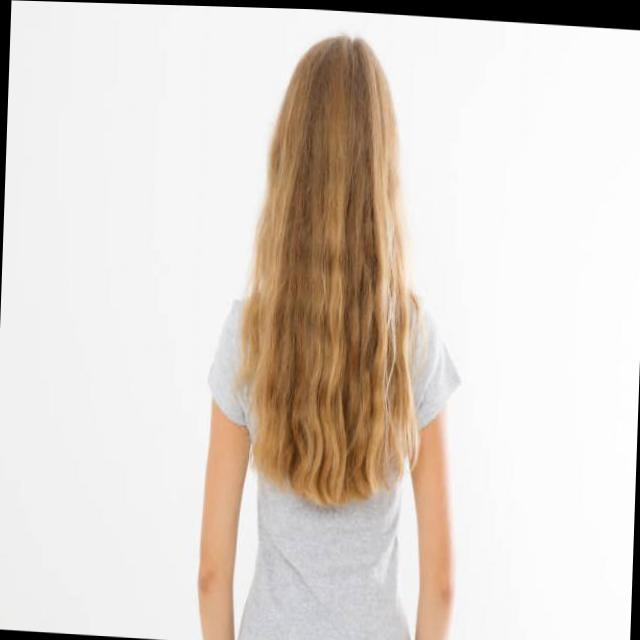no helmet: (255, 28, 421, 319)
